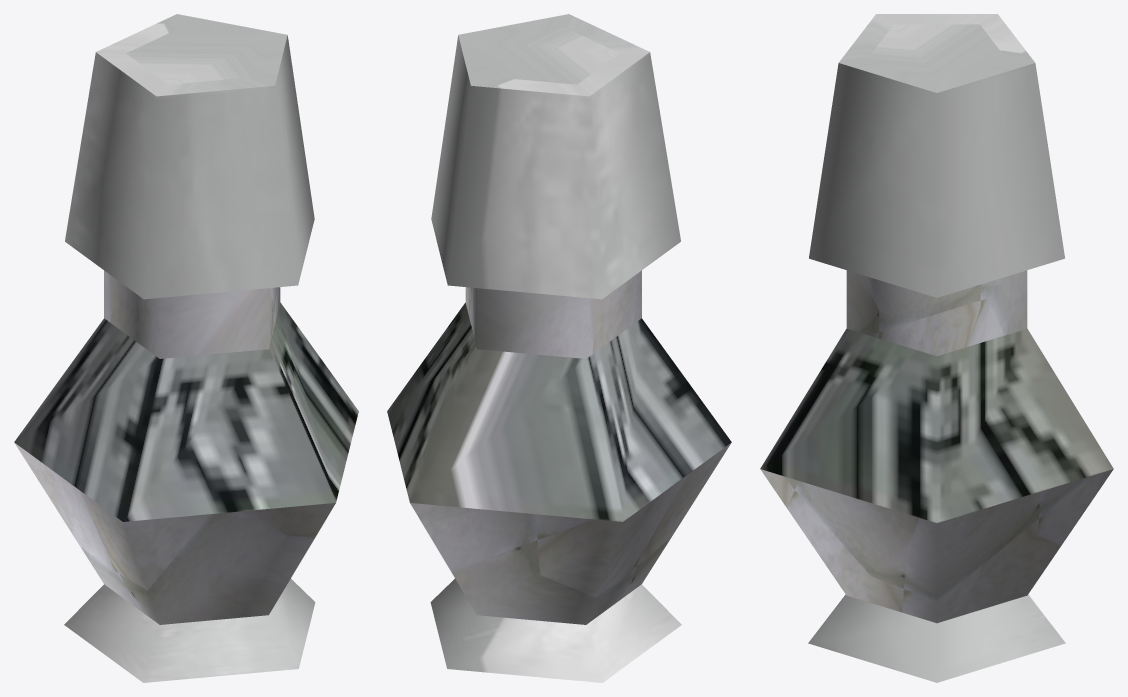
Rendered from soil.FBX.
The picture shows the model from 3 angles, left to right: view 1: azimuth 30°, elevation 25°; view 2: azimuth 150°, elevation 25°; view 3: azimuth 270°, elevation 25°; orthographic projection.
Parts seen in each view (by area): view 1: Object002, Object001, Cylinder001, Object003, Object004; view 2: Object002, Object001, Cylinder001, Object003, Object004; view 3: Object001, Object002, Cylinder001, Object003, Object004.
Part boxes in pixels (x1=…): Object002: x1=14, y1=302, x2=358, y2=521; Object001: x1=65, y1=35, x2=314, y2=299; Cylinder001: x1=14, y1=270, x2=335, y2=624; Object003: x1=64, y1=579, x2=315, y2=682; Object004: x1=96, y1=14, x2=287, y2=96; Object002: x1=387, y1=302, x2=731, y2=521; Object001: x1=431, y1=35, x2=680, y2=299; Cylinder001: x1=410, y1=270, x2=731, y2=624; Object003: x1=430, y1=579, x2=681, y2=682; Object004: x1=458, y1=14, x2=649, y2=96; Object001: x1=809, y1=63, x2=1064, y2=297; Object002: x1=760, y1=328, x2=1113, y2=522; Cylinder001: x1=760, y1=270, x2=1113, y2=623; Object003: x1=808, y1=594, x2=1065, y2=682; Object004: x1=839, y1=14, x2=1034, y2=92.
Size of the model in its own units: 151 by 285 by 158.
Materials: 3 (3 with a texture image).
